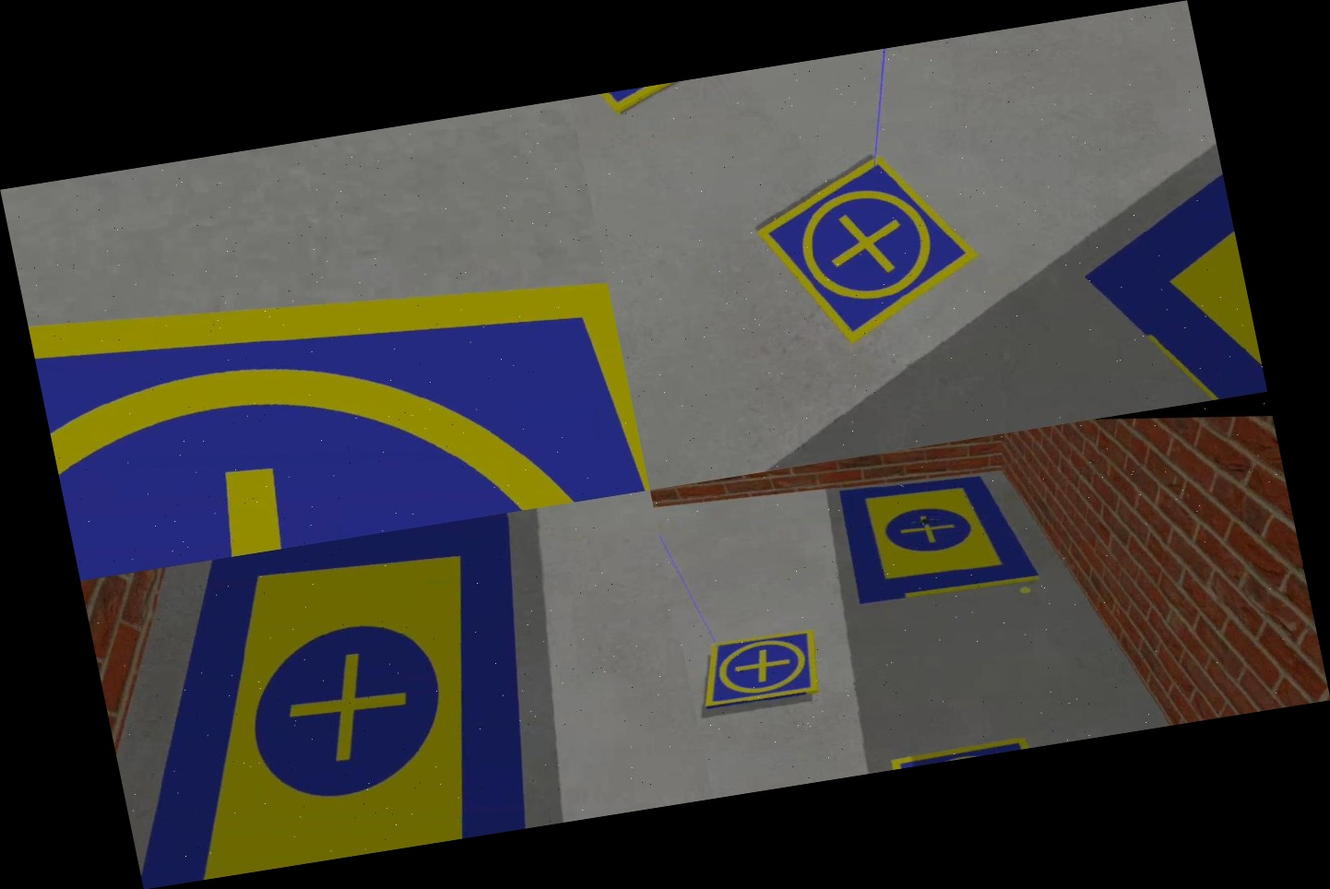large_base: (80, 511, 584, 889), (990, 40, 1266, 424), (813, 444, 1063, 634)
small_base: (13, 161, 650, 581), (718, 121, 1016, 373), (690, 614, 832, 724), (570, 69, 762, 139)
